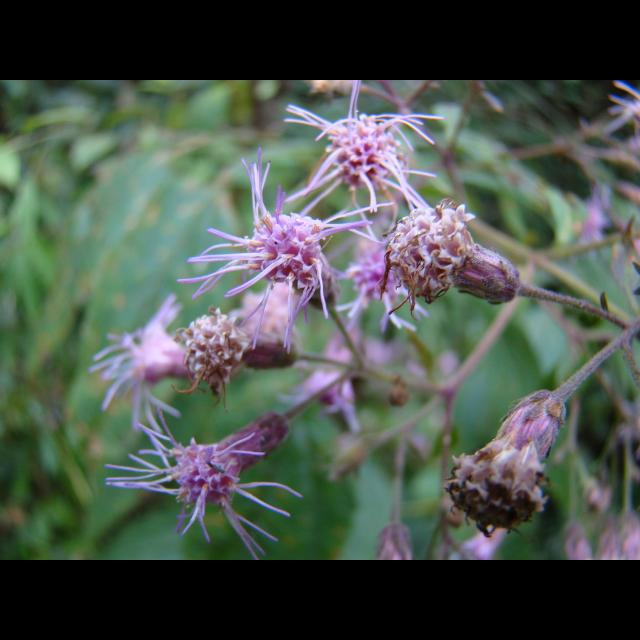Flower: (90, 80, 516, 560), (442, 388, 566, 530), (563, 470, 639, 560), (606, 80, 640, 162), (574, 175, 610, 242), (454, 518, 510, 560), (369, 525, 416, 559)
